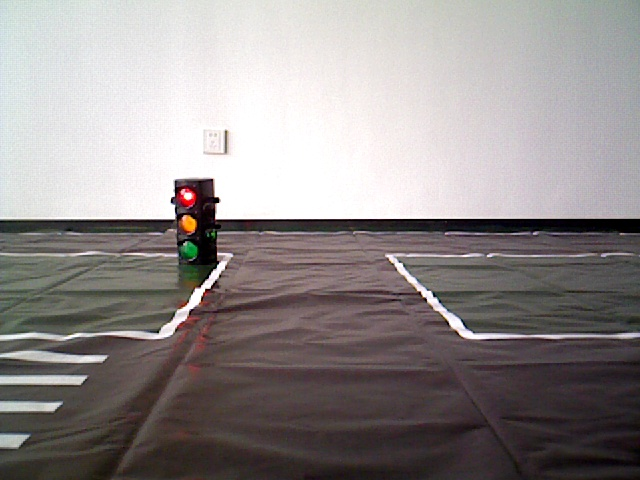red: (176, 179, 213, 264)
